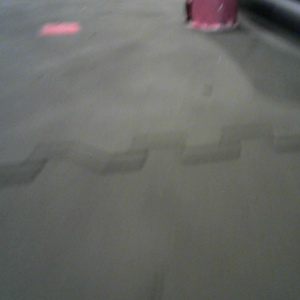Right: (184, 1, 238, 29)
